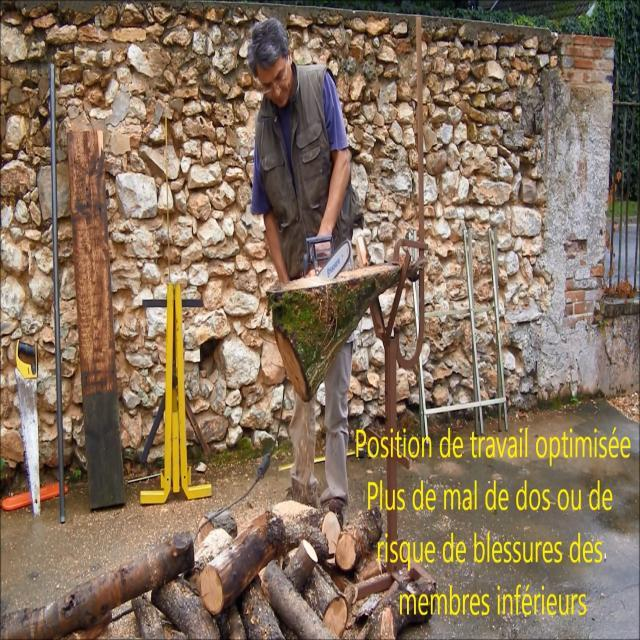Chainsaw: (282, 210, 372, 316)
